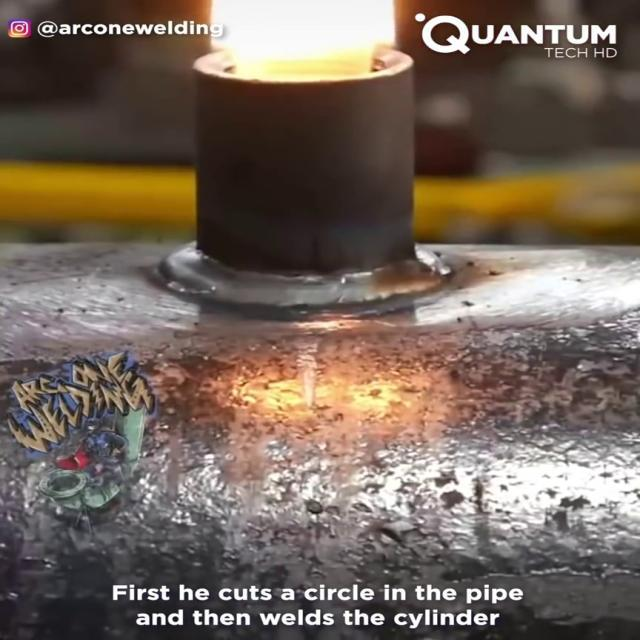Good Welding: (158, 242, 450, 308)
